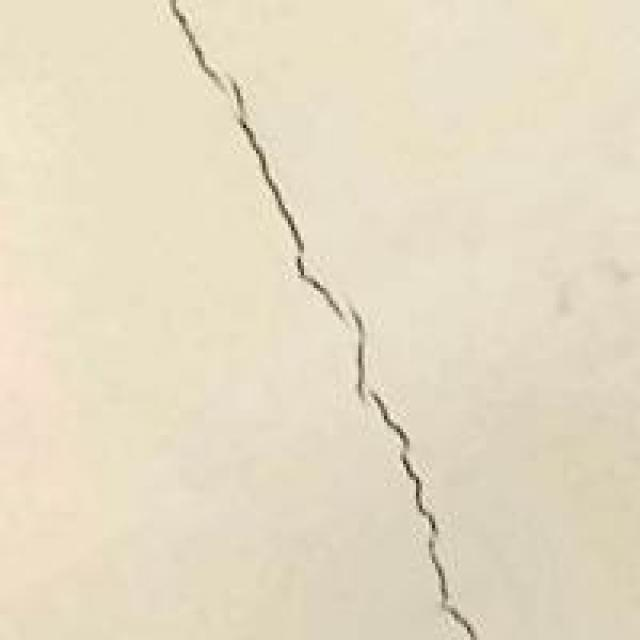crack: (166, 0, 489, 637)
